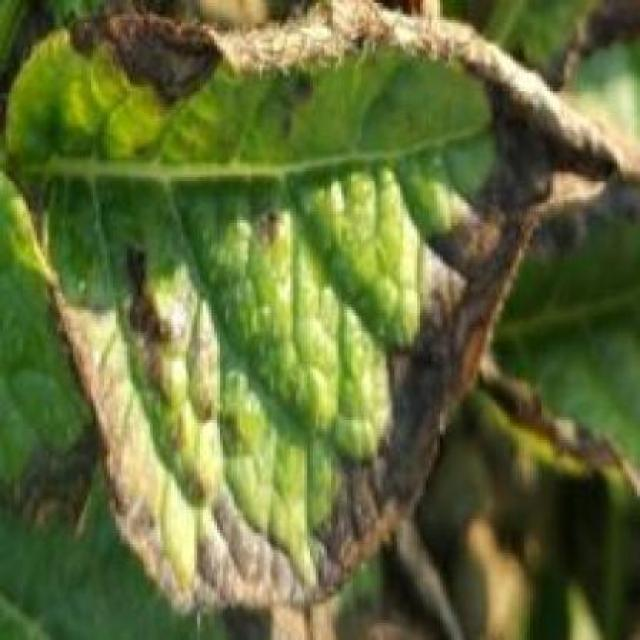Late Blight: (3, 0, 640, 620)
